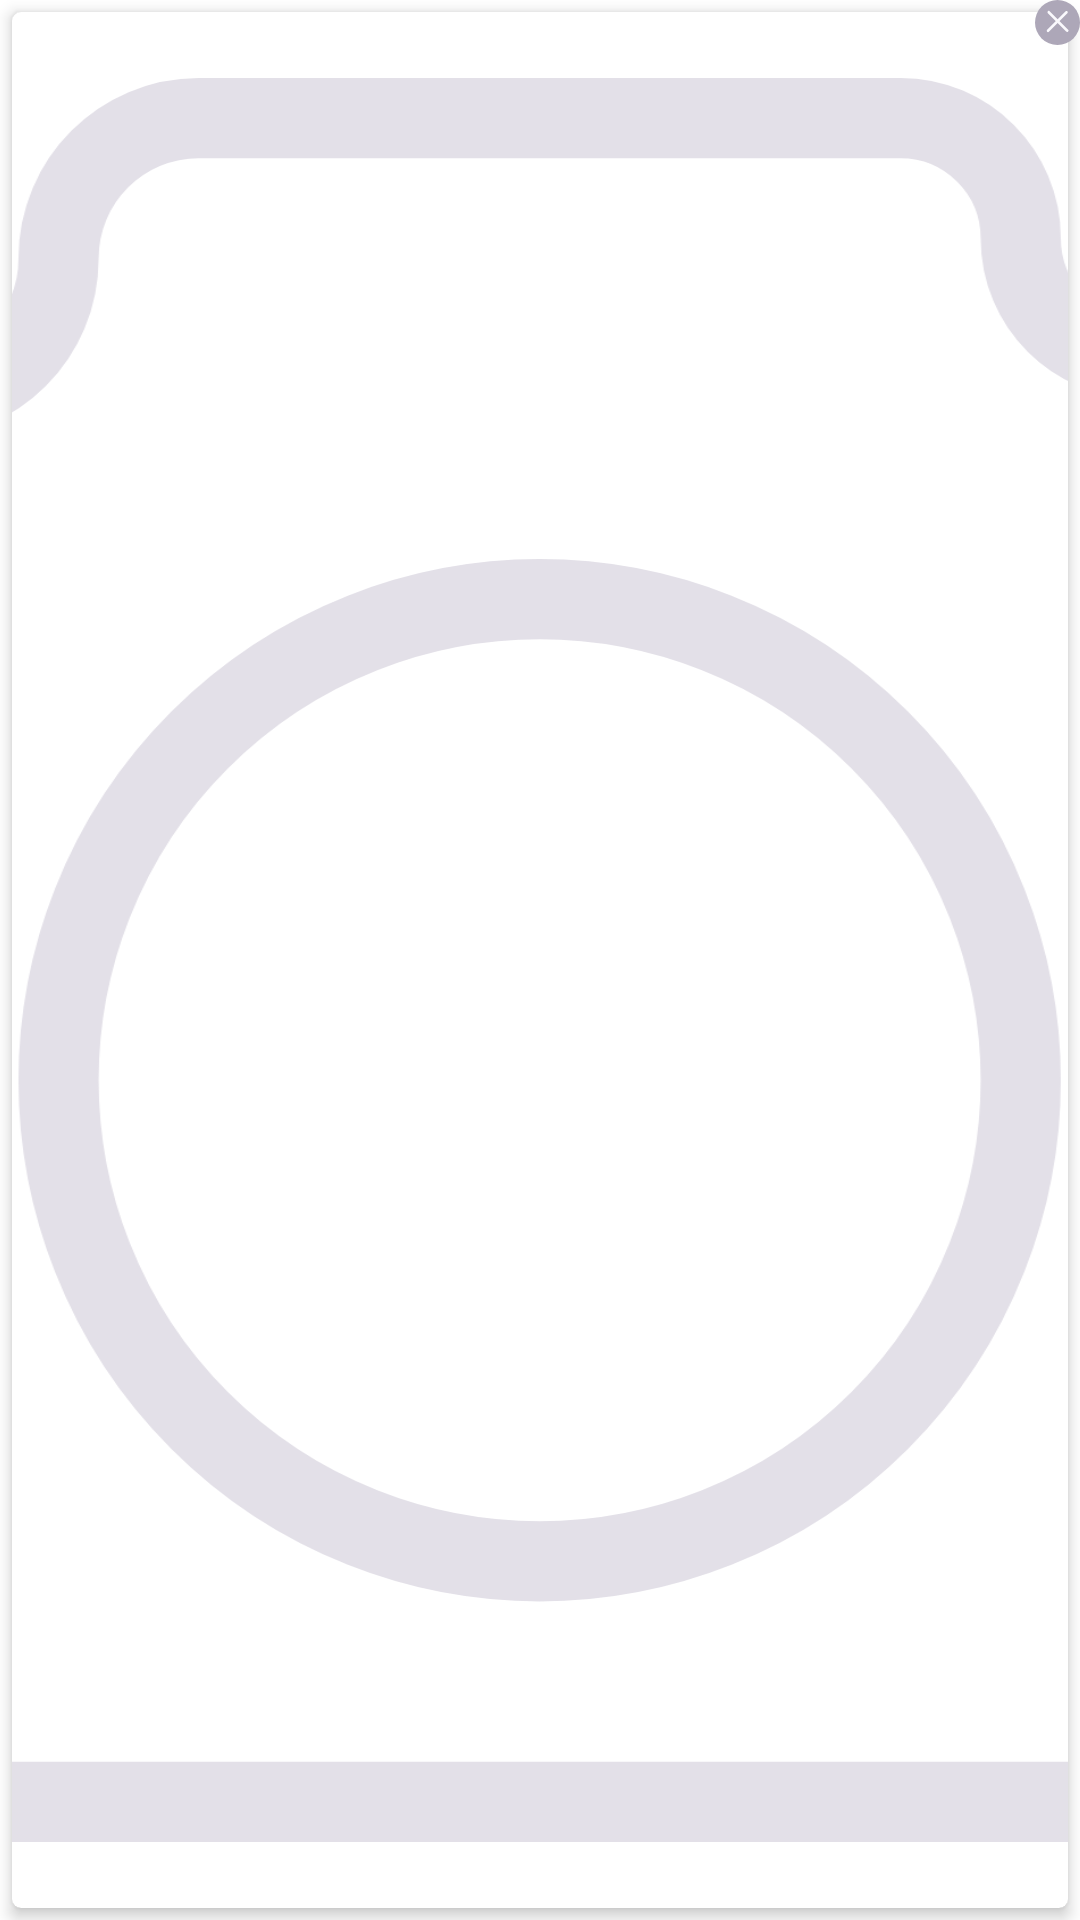

Screen size 1080w x 1920h. Icon name, then its center in pixels as point (x, y):
cross: point (1057, 22)
